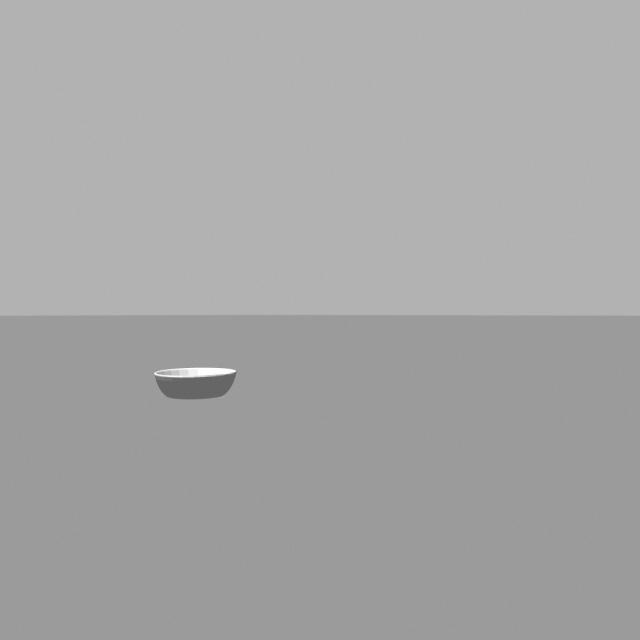bowl: (152, 342, 240, 424)
